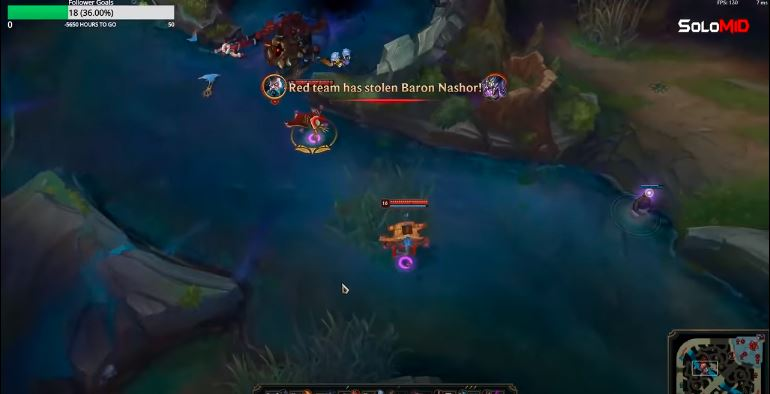bar: (280, 76, 335, 93), (379, 196, 430, 211)
